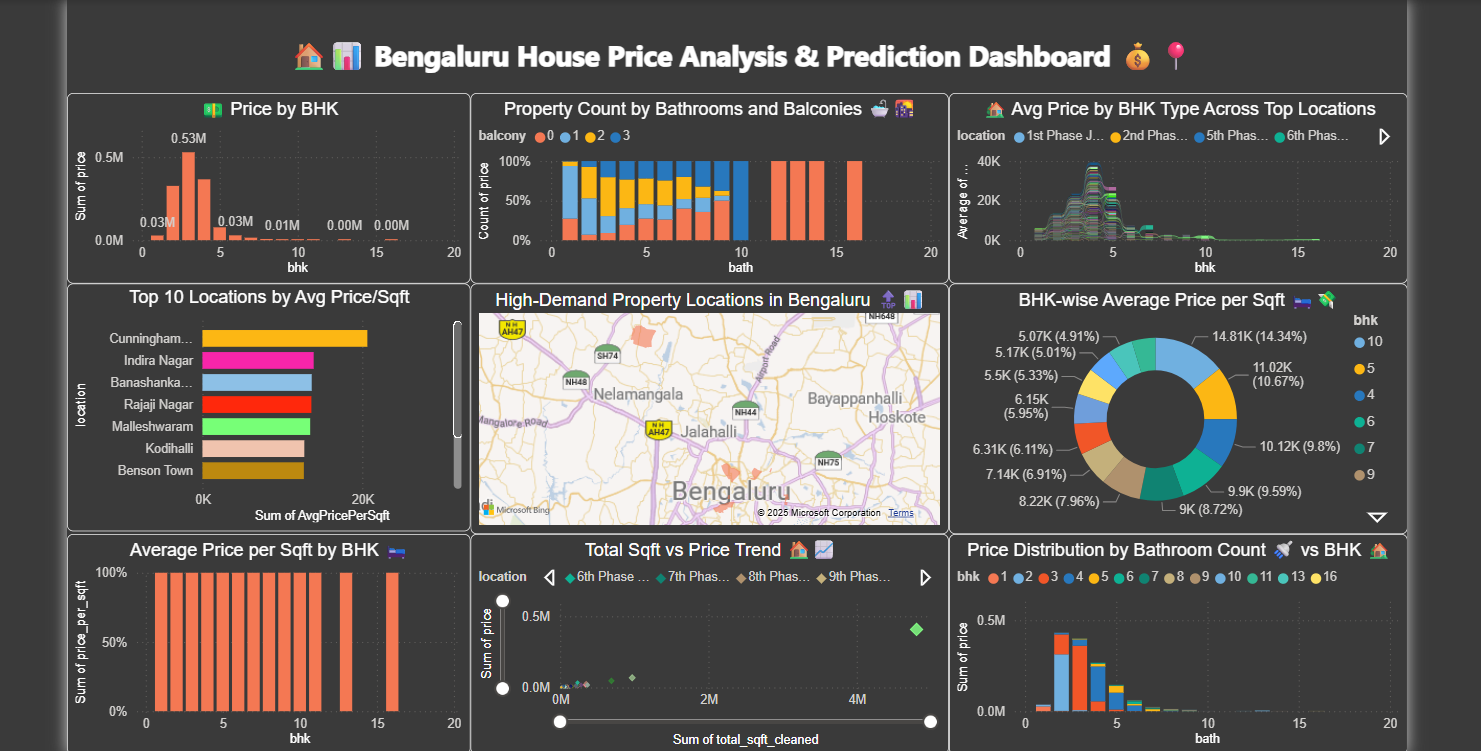

The page's visual inventory and layout, read from the dashboard file:
{"tool":"powerbi","page":{"name":"Page 1","canvas":[1280,720],"ordinal":0},"visuals":[{"type":"textbox","box":[9.4,28.3,1269.9,75.6],"z":0},{"type":"clusteredColumnChart","title":"💵 Price by BHK","fields":{"Category":["Cleaned_Bengaluru_House_Data.bhk"],"Y":["Sum(Cleaned_Bengaluru_House_Data.price)"]},"box":[0,88.8,385.3,181.9],"z":1000},{"type":"barChart","title":" Top 10 Locations by Avg Price/Sqft","fields":{"Category":["TopLocations.location"],"Y":["Sum(TopLocations.AvgPricePerSqft)"]},"box":[0,270.7,385.3,236.3],"z":2000},{"type":"hundredPercentStackedColumnChart","title":"Average Price per Sqft by BHK 🛏️","fields":{"Category":["Cleaned_Bengaluru_House_Data.bhk"],"Y":["Sum(Cleaned_Bengaluru_House_Data.price_per_sqft)"]},"box":[0,509.9,385.3,210.6],"z":3000},{"type":"hundredPercentStackedColumnChart","title":"Property Count by Bathrooms and Balconies 🛁🌇","fields":{"Category":["Cleaned_Bengaluru_House_Data.bath"],"Y":["CountNonNull(Cleaned_Bengaluru_House_Data.price)"],"Series":["Cleaned_Bengaluru_House_Data.balcony"]},"box":[385.3,88.8,456.9,181.9],"z":4000},{"type":"donutChart","title":"BHK-wise Average Price per Sqft 🛏️💸","fields":{"Y":["Avg(Cleaned_Bengaluru_House_Data.price_per_sqft)"],"Category":["Cleaned_Bengaluru_House_Data.bhk"]},"box":[842.2,270.7,438.3,239.2],"z":5000},{"type":"columnChart","title":"Price Distribution by Bathroom Count 🚿 vs BHK 🏡","fields":{"Category":["Cleaned_Bengaluru_House_Data.bath"],"Y":["Sum(Cleaned_Bengaluru_House_Data.price)"],"Series":["Cleaned_Bengaluru_House_Data.bhk"]},"box":[842.2,509.9,438.3,210.6],"z":6000},{"type":"scatterChart","title":"Total Sqft vs Price Trend 🏠📈","fields":{"X":["Sum(Cleaned_Bengaluru_House_Data.total_sqft_cleaned)"],"Y":["Sum(Cleaned_Bengaluru_House_Data.price)"],"Series":["Cleaned_Bengaluru_House_Data.location"],"Size":["Sum(Cleaned_Bengaluru_House_Data.bath)"]},"box":[385.3,509.9,456.9,210.6],"z":7000},{"type":"filledMap","title":"High-Demand Property Locations in Bengaluru 🔝📊","fields":{"Category":["TopLocations.location"]},"box":[385.3,270.7,456.9,239.2],"z":8000},{"type":"ribbonChart","title":"🏡 Avg Price by BHK Type Across Top Locations","fields":{"Category":["Cleaned_Bengaluru_House_Data.bhk"],"Y":["Avg(Cleaned_Bengaluru_House_Data.price)"],"Series":["Cleaned_Bengaluru_House_Data.location"]},"box":[842.2,88.8,438.3,181.9],"z":9000}]}

Visuals, with their boxes in screenshot pixels (x1, y1, x2, y2):
textbox: (left=87, top=33, right=1395, bottom=111)
"💵 Price by BHK" clusteredColumnChart: (left=77, top=95, right=474, bottom=283)
" Top 10 Locations by Avg Price/Sqft" barChart: (left=77, top=283, right=474, bottom=526)
"Average Price per Sqft by BHK 🛏️" hundredPercentStackedColumnChart: (left=77, top=529, right=474, bottom=746)
"Property Count by Bathrooms and Balconies 🛁🌇" hundredPercentStackedColumnChart: (left=474, top=95, right=945, bottom=283)
"BHK-wise Average Price per Sqft 🛏️💸" donutChart: (left=945, top=283, right=1396, bottom=529)
"Price Distribution by Bathroom Count 🚿 vs BHK 🏡" columnChart: (left=945, top=529, right=1396, bottom=746)
"Total Sqft vs Price Trend 🏠📈" scatterChart: (left=474, top=529, right=945, bottom=746)
"High-Demand Property Locations in Bengaluru 🔝📊" filledMap: (left=474, top=283, right=945, bottom=529)
"🏡 Avg Price by BHK Type Across Top Locations" ribbonChart: (left=945, top=95, right=1396, bottom=283)
